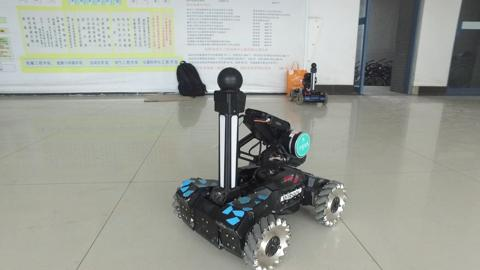bag: (173, 57, 210, 99), (283, 60, 308, 93)
chariot: (170, 66, 350, 270), (286, 61, 330, 107)
